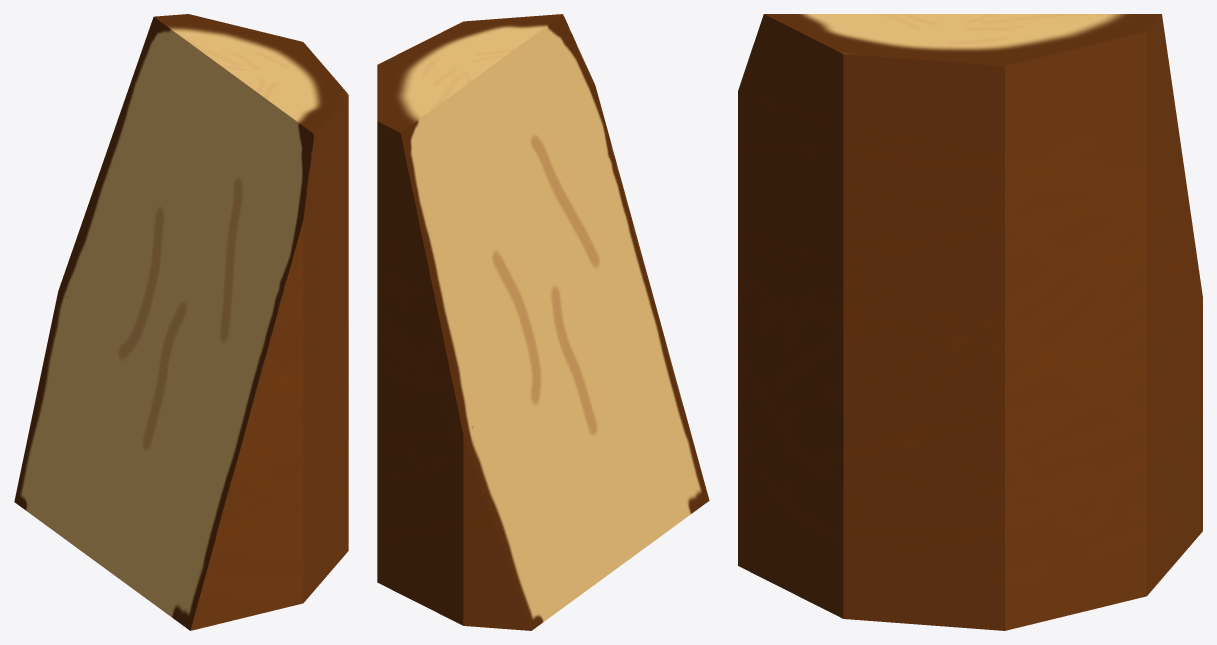
File: wood right.fbx
The picture shows the model from 3 angles, left to right: view 1: azimuth 30°, elevation 25°; view 2: azimuth 150°, elevation 25°; view 3: azimuth 270°, elevation 25°; orthographic projection. The views are drawn at different scales.
Visible parts, largest first — view 1: Wood; view 2: Wood; view 3: Wood.
Part boxes in pixels (x1,y1,x2,y2): Wood: [14, 14, 348, 630]; Wood: [377, 14, 709, 630]; Wood: [738, 14, 1202, 630].
Size of the model in its own units: 32.91 by 65 by 48.49.
Materials: 1 (1 with a texture image).
